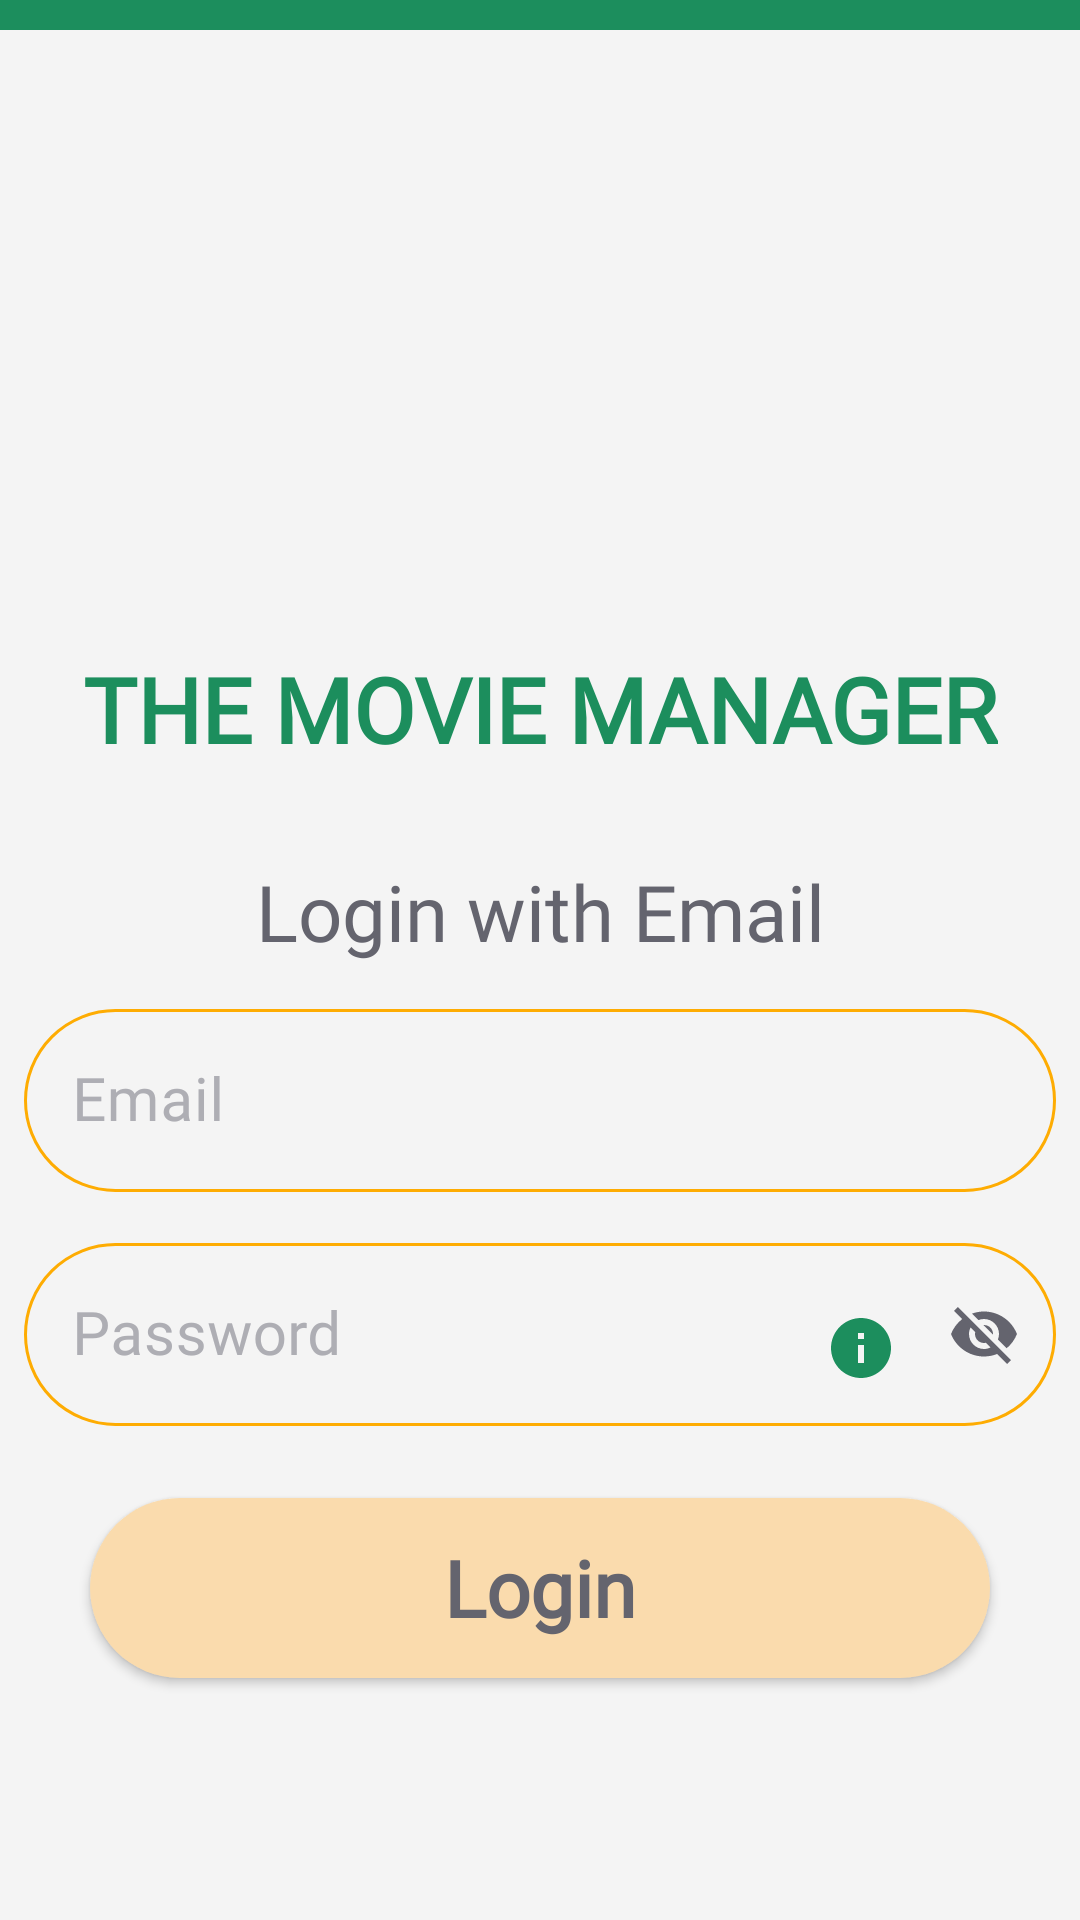

Icons on this 1080 x 1920 Android screen, each with the point to tap as (x=x, y=y):
info: (x=861, y=1348)
